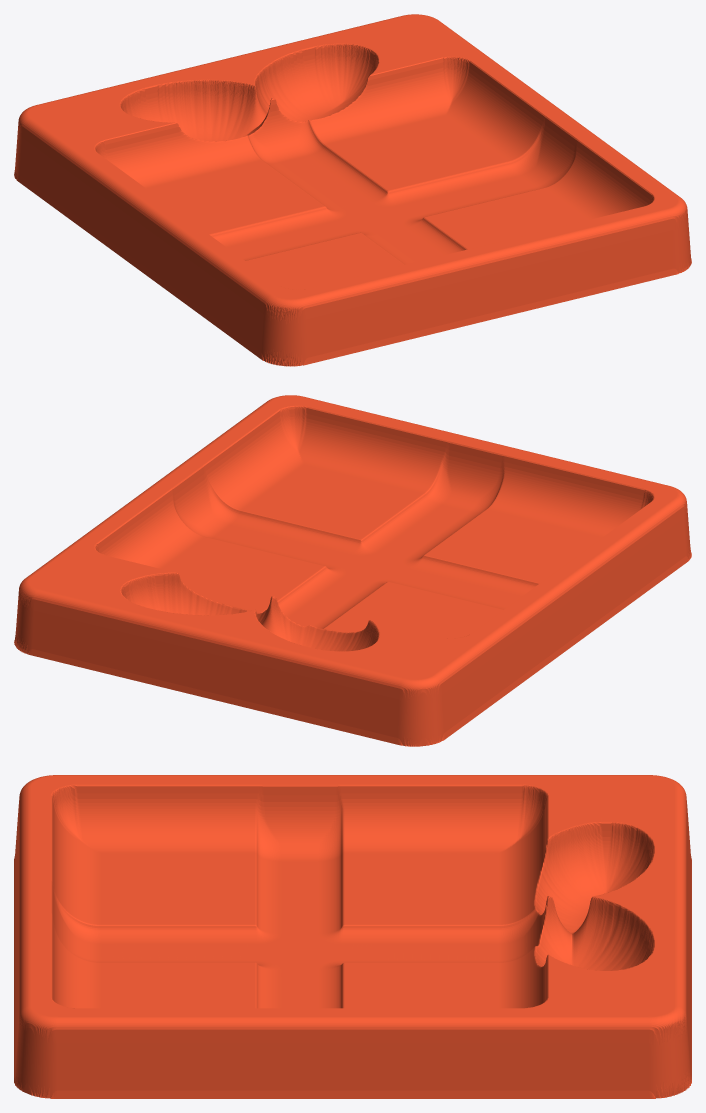
Rendered from mold.glb.
3 renders of one model, top to bottom at view 1: azimuth 30°, elevation 25°; view 2: azimuth 150°, elevation 25°; view 3: azimuth 270°, elevation 25°, orthographic. The views are drawn at different scales.
Visible parts, largest first — view 1: geometry_0; view 2: geometry_0; view 3: geometry_0.
Boxes of the visible parts, box(x1,y1,x2,y2) form: geometry_0: box(14, 14, 691, 366); geometry_0: box(14, 395, 691, 746); geometry_0: box(14, 775, 691, 1098).
Bounding box in the file's own units: 0.1277 × 0.0175 × 0.1435.
